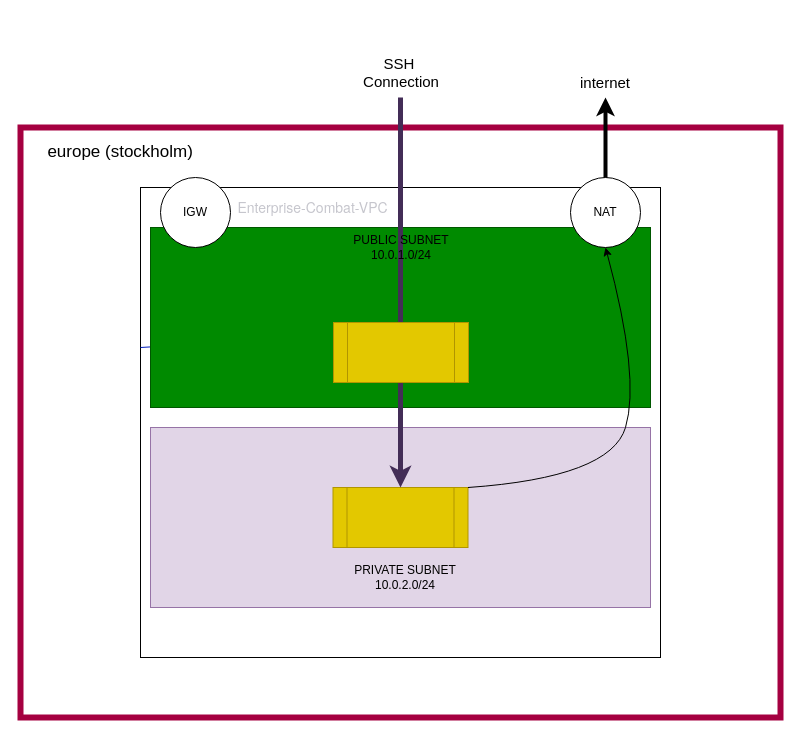
This 800x737 diagram has some shape labels left out. The centre of each missing label's shape, as x and y in pixels:
Bastion Server: (x=400, y=352)
Private Server: (x=400, y=517)
